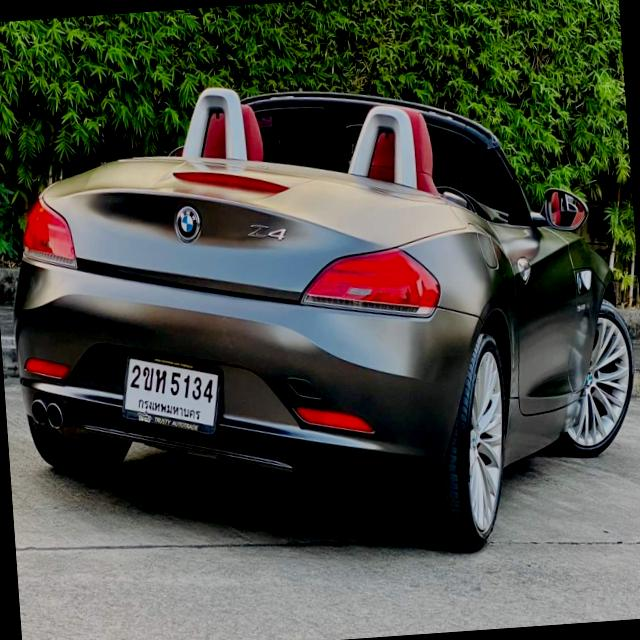license_plate: (118, 342, 227, 445)
